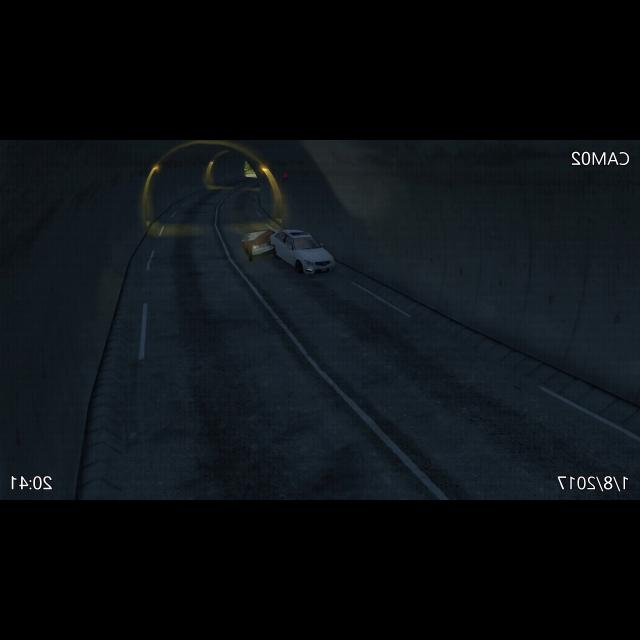accident: (240, 228, 338, 276)
